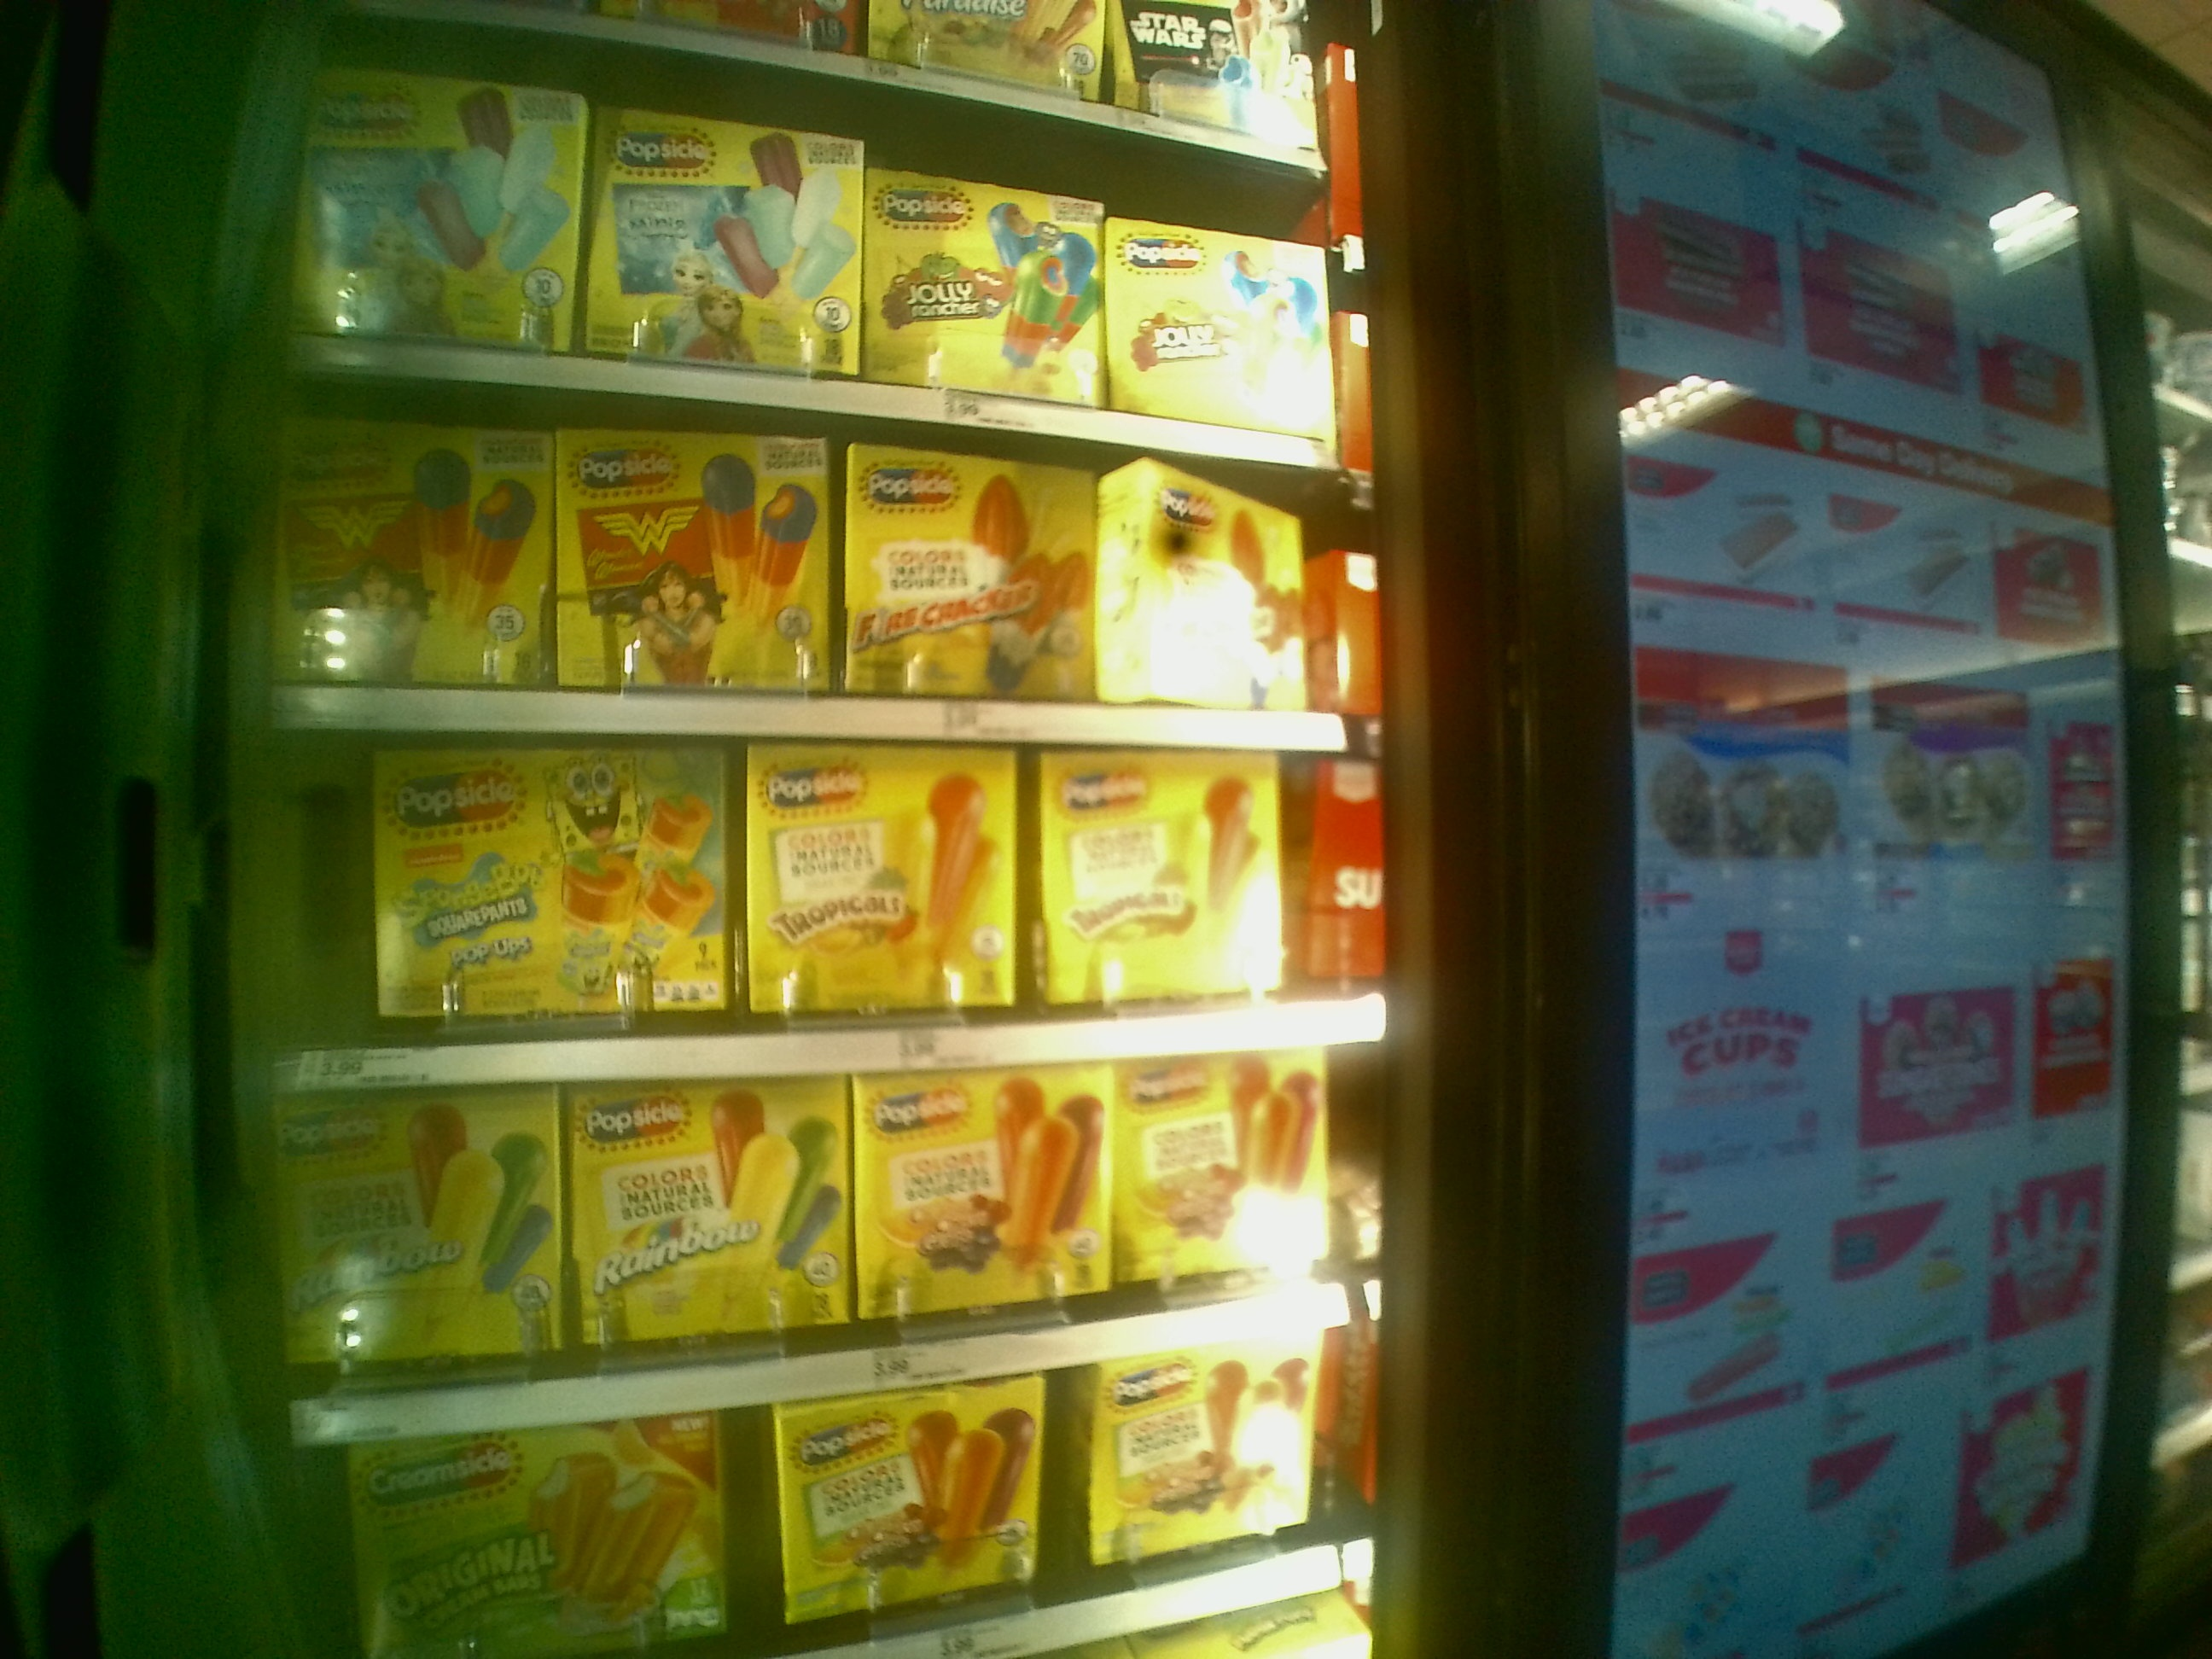frozen-food-shelf: (275, 725, 1364, 1072), (263, 436, 1364, 774)
